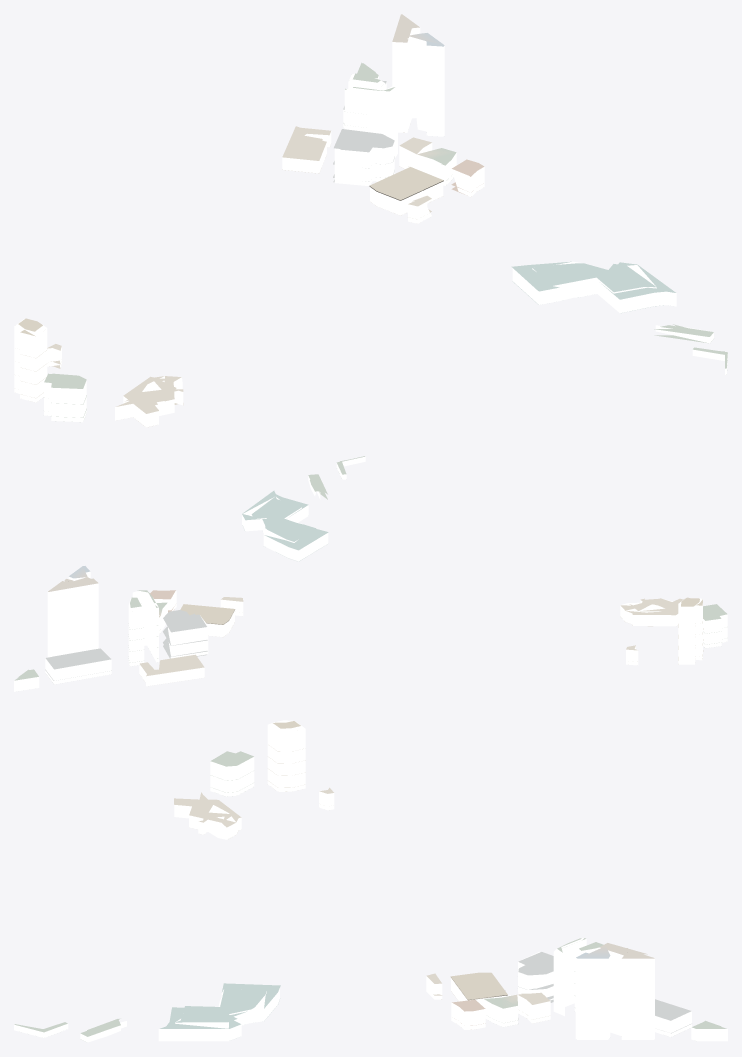
The model's file is buildings-10_2-coarse.glb.
The picture shows the model from 3 angles, top to bottom: view 1: azimuth 30°, elevation 25°; view 2: azimuth 150°, elevation 25°; view 3: azimuth 270°, elevation 25°; orthographic projection. The views are drawn at different scales.
Visible parts, largest first — view 1: block_10_2_residential, block_10_2_roof, block_10_2_office; view 2: block_10_2_residential, block_10_2_roof, block_10_2_office; view 3: block_10_2_residential, block_10_2_roof, block_10_2_office.
Boxes of the visible parts, left/top/right/bottom form: block_10_2_residential: left=14, top=73, right=727, bottom=427; block_10_2_roof: left=18, top=14, right=727, bottom=427; block_10_2_office: left=392, top=27, right=676, bottom=313; block_10_2_residential: left=14, top=456, right=727, bottom=691; block_10_2_roof: left=14, top=456, right=727, bottom=683; block_10_2_office: left=47, top=497, right=328, bottom=657; block_10_2_residential: left=14, top=720, right=727, bottom=1042; block_10_2_roof: left=14, top=721, right=726, bottom=1041; block_10_2_office: left=158, top=947, right=654, bottom=1041.
Bounding box in the file's own units: 369 × 59.2 × 430.
